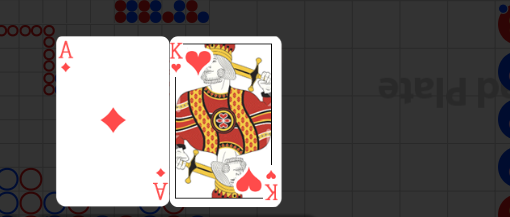AD: (151, 165, 168, 200)
KH: (264, 169, 279, 202)
